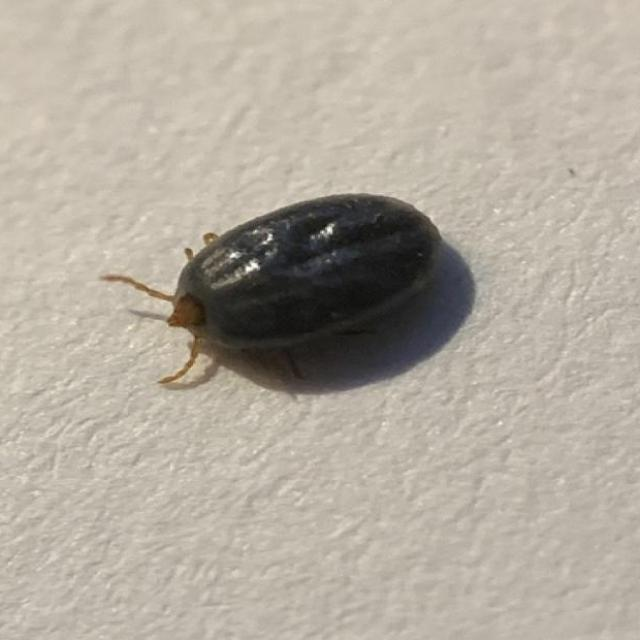Rhipicephalus Sanguineus-F-Fed: (116, 193, 443, 385)
